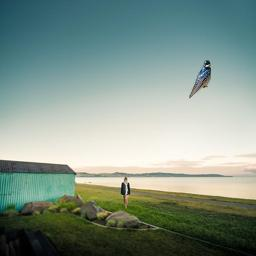Swallow: (189, 59, 211, 99)
